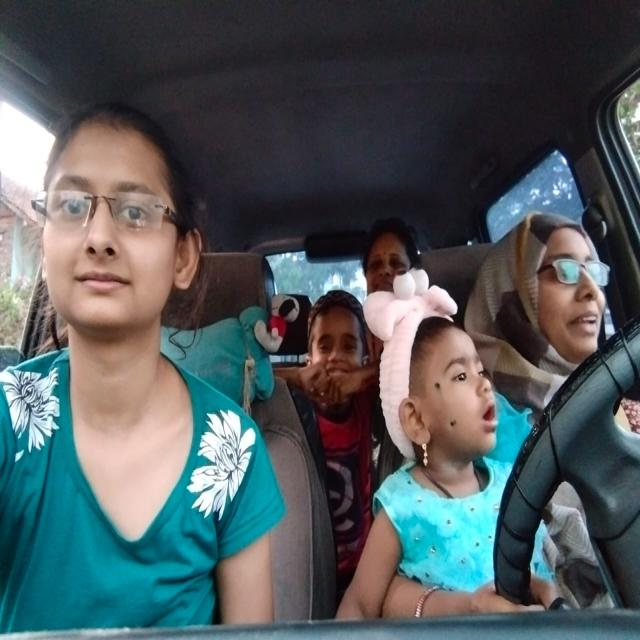child: (385, 319, 502, 455)
person: (32, 116, 200, 335), (509, 212, 613, 358), (306, 299, 373, 388), (364, 232, 415, 294)
